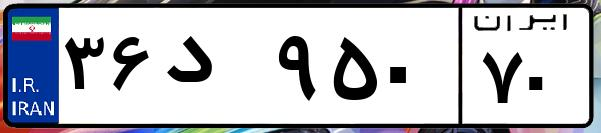0: (385, 28, 445, 110), (525, 38, 570, 115)
3: (57, 26, 110, 100)
5: (330, 28, 385, 110)
6: (110, 28, 158, 98)
7: (475, 38, 525, 113)
9: (270, 28, 330, 110)
د: (158, 20, 270, 120)
